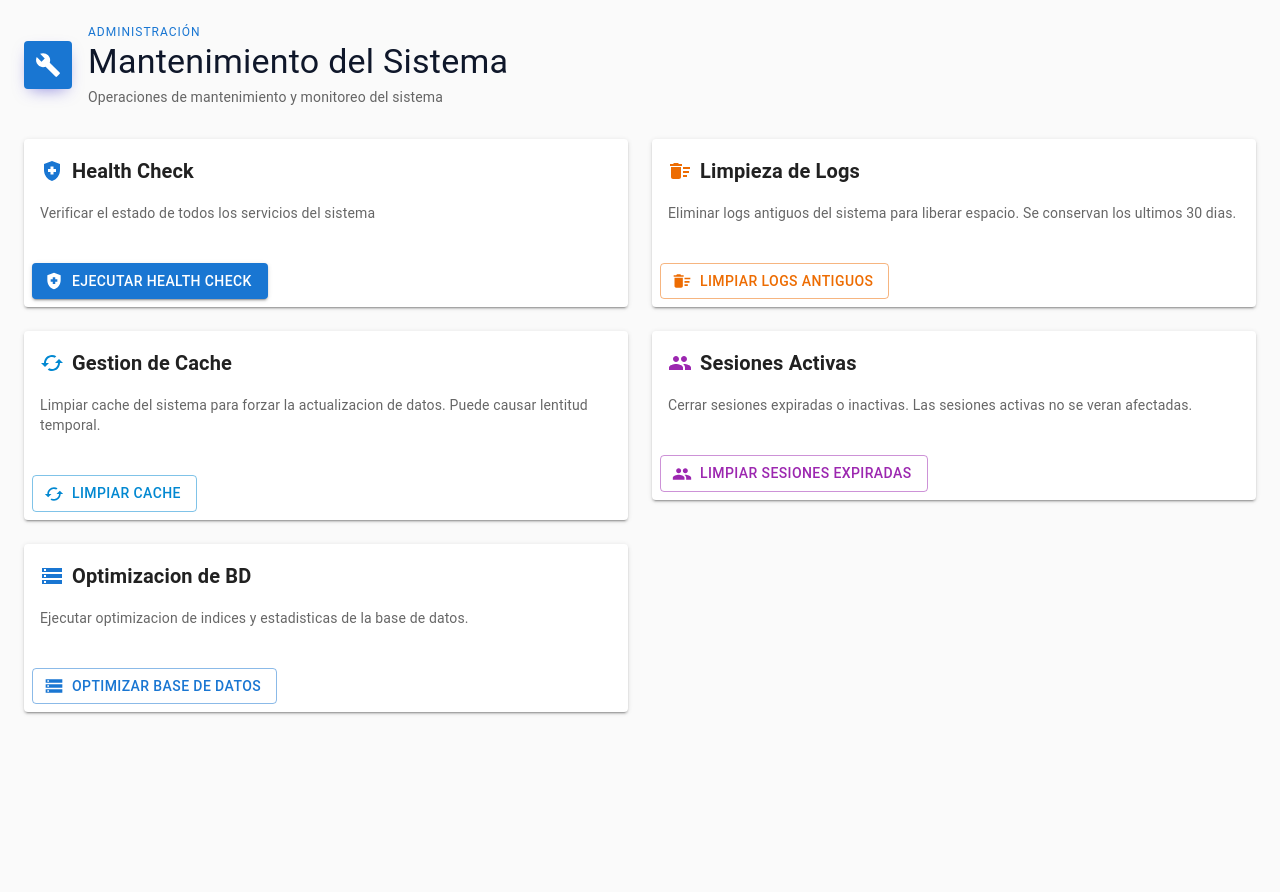
Scenario: AdminMaintenance › should execute health check when button is clicked
What coordinates should you click on to do the following:
click the button "Ejecutar Health Check"
I would click on:
 (150, 281)
Its box is top-left (32, 263), bottom-right (268, 299).
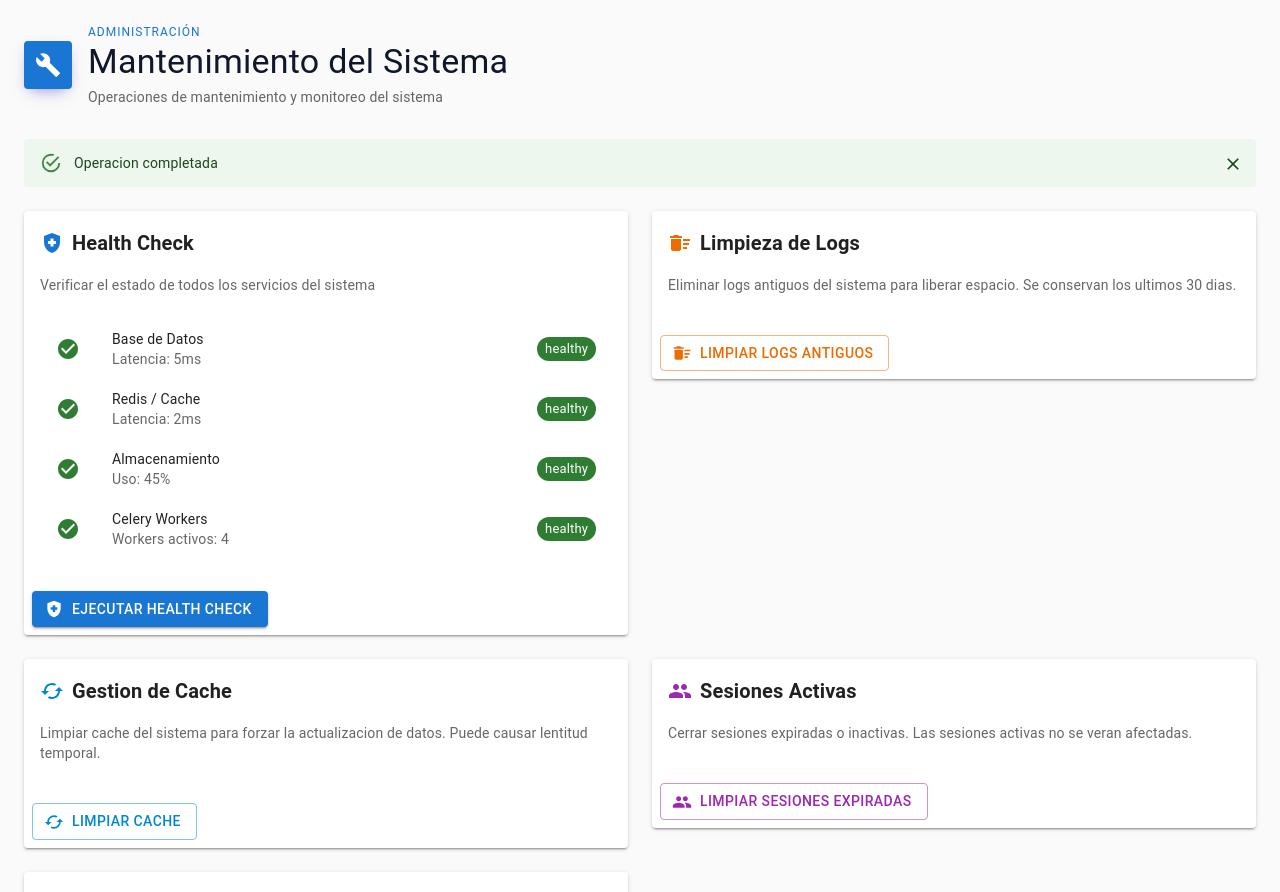
expect the text "Base de Datos" is shown: met, box top-left (112, 331), bottom-right (204, 347)
expect the text "Latencia: 5ms" is shown: met, box top-left (112, 351), bottom-right (201, 367)
